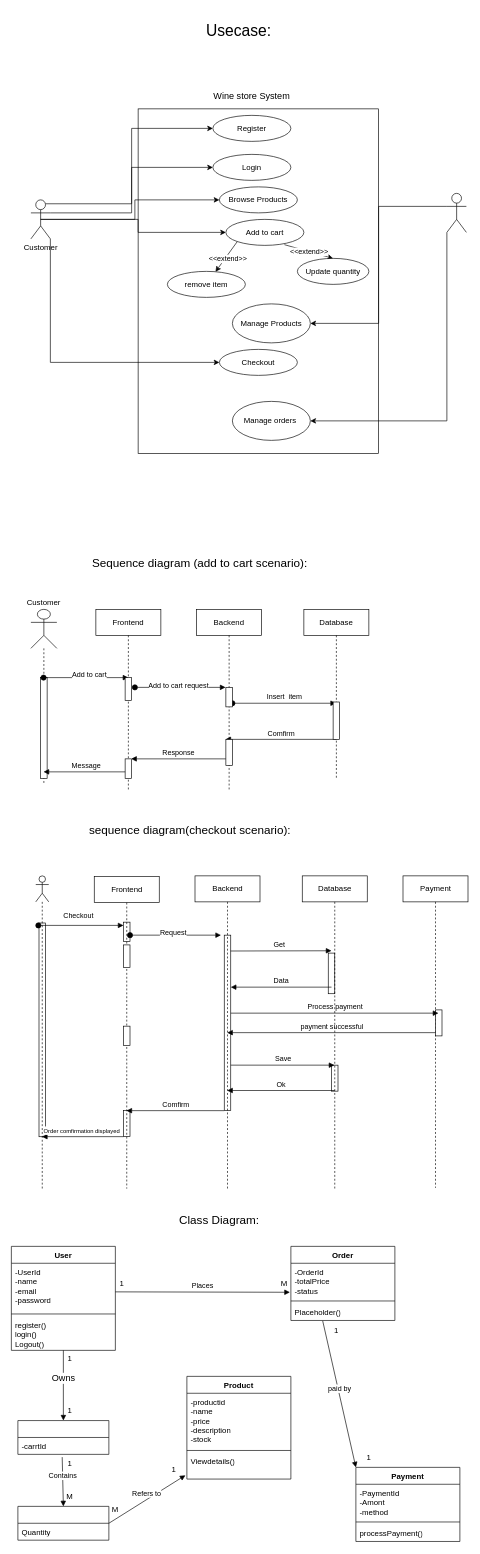
Image size: 480x1554. Some labels were removed from this diagram. Each missing label, with the box of its shape:
Admin: (446, 193, 466, 232)
Cart: (17, 1420, 109, 1454)
CartItem: (17, 1506, 109, 1540)
